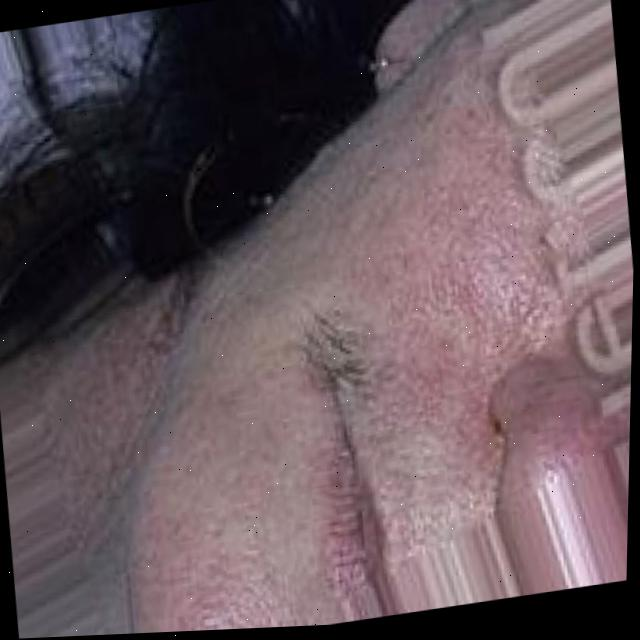Rosacea: (402, 199, 549, 334)
